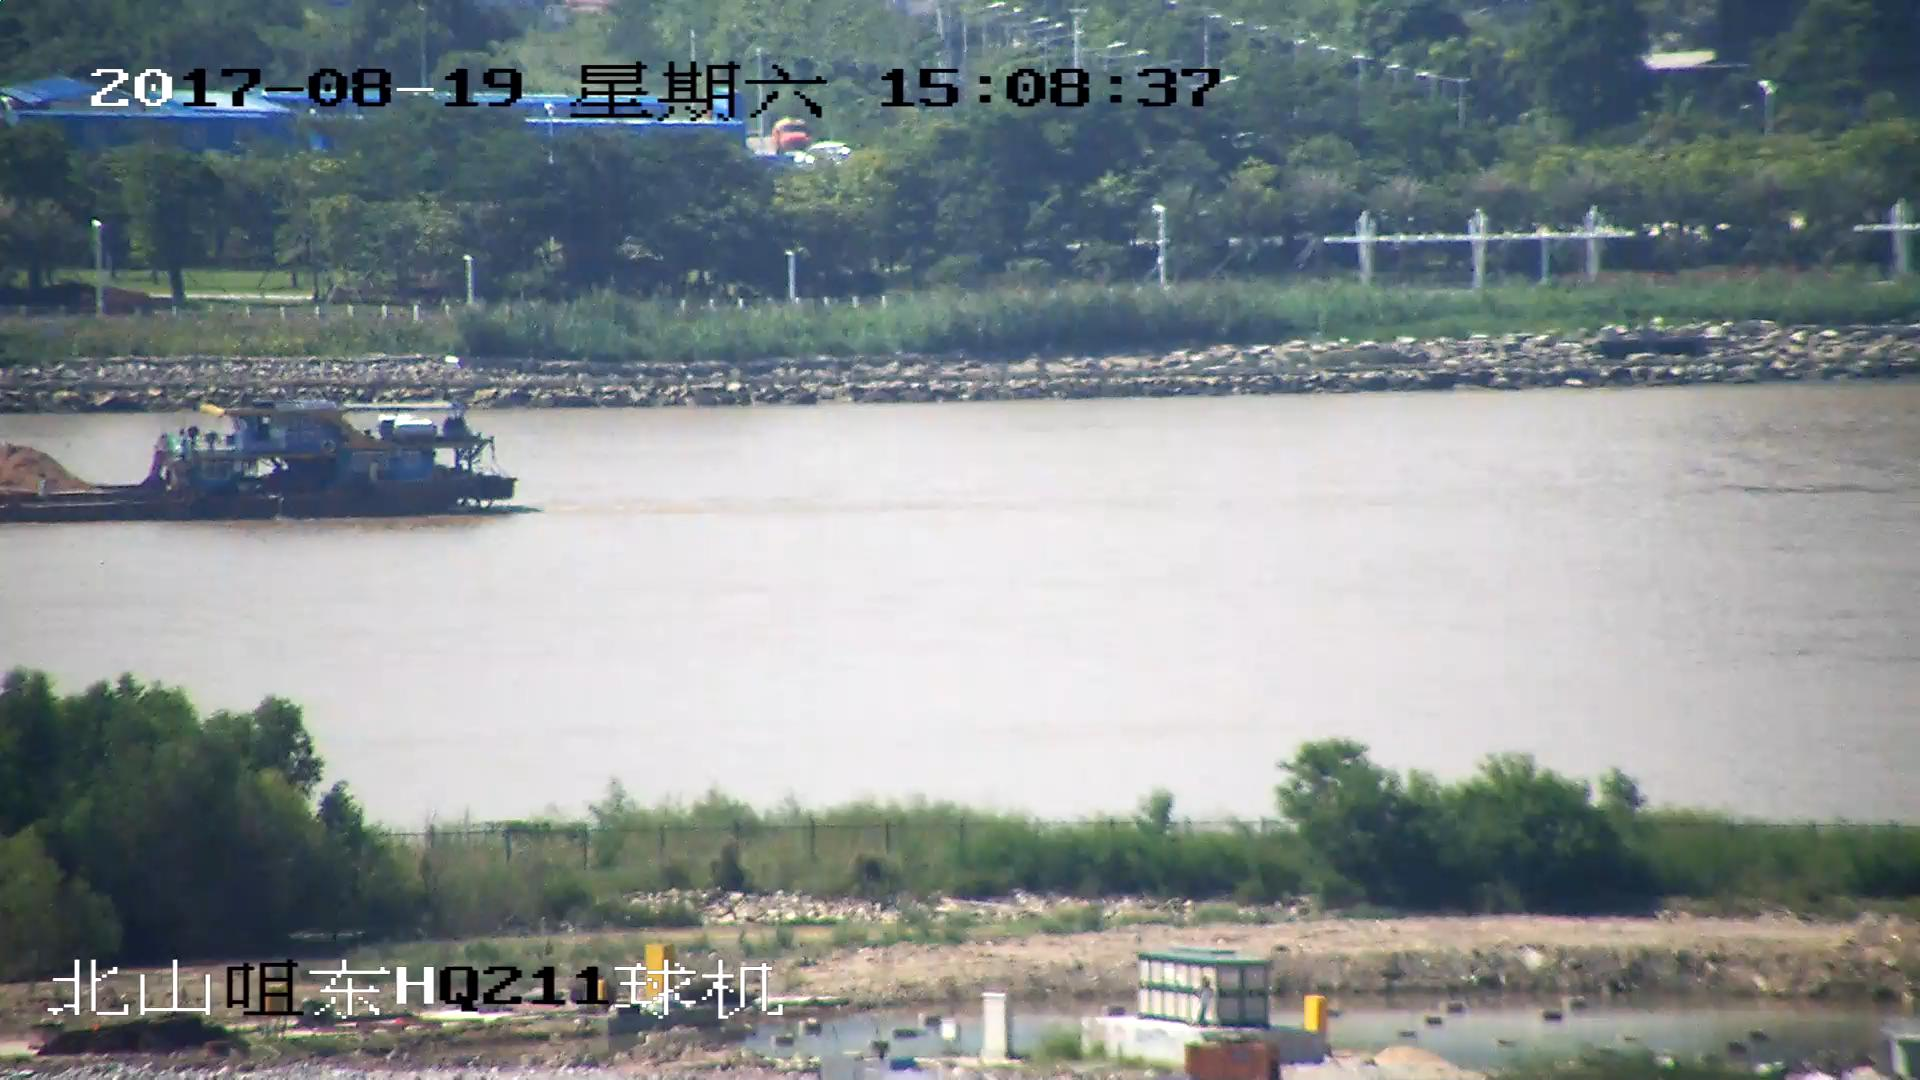ore carrier: (1, 389, 520, 526)
